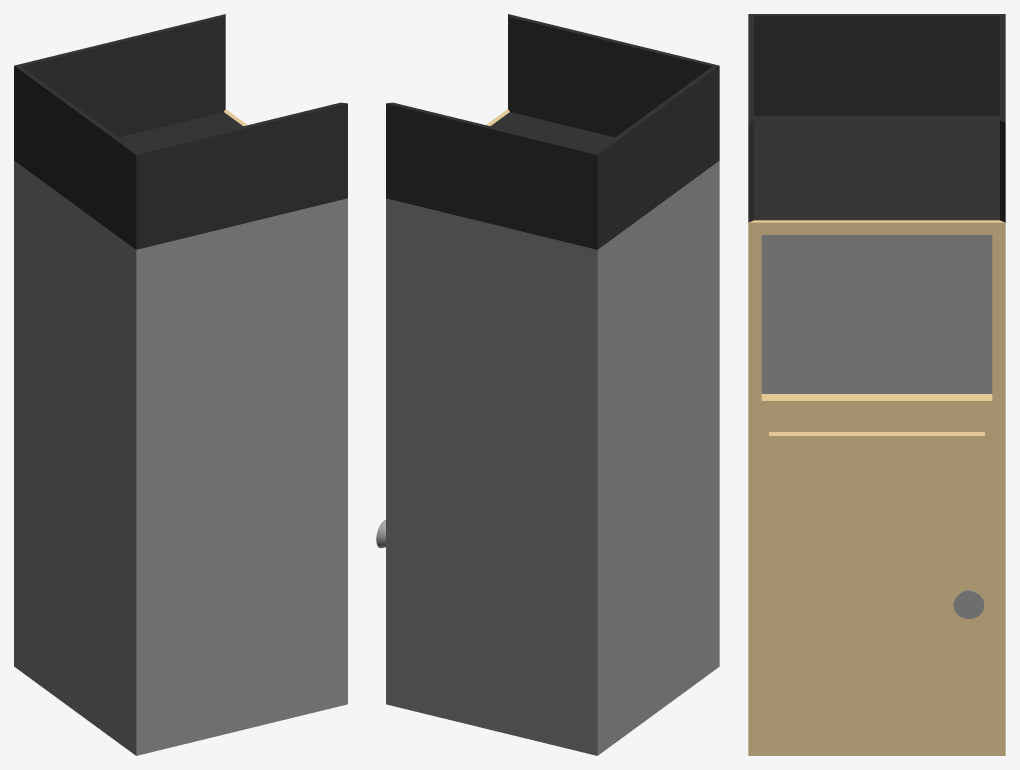
Rendered from Poubelle.fbx.
3 views of the same model, side by side, from view 1: azimuth 30°, elevation 25°; view 2: azimuth 150°, elevation 25°; view 3: azimuth 270°, elevation 25° (orthographic). The views are drawn at different scales.
Visible parts, largest first — view 1: Cylindre; view 2: Cylindre; view 3: Cylindre.
Boxes of the visible parts, box(x1,y1,x2,y2) form: Cylindre: box(14, 14, 347, 755); Cylindre: box(376, 14, 719, 755); Cylindre: box(748, 14, 1005, 755).
Bounding box in the file's own units: 76.55 × 190 × 70.
